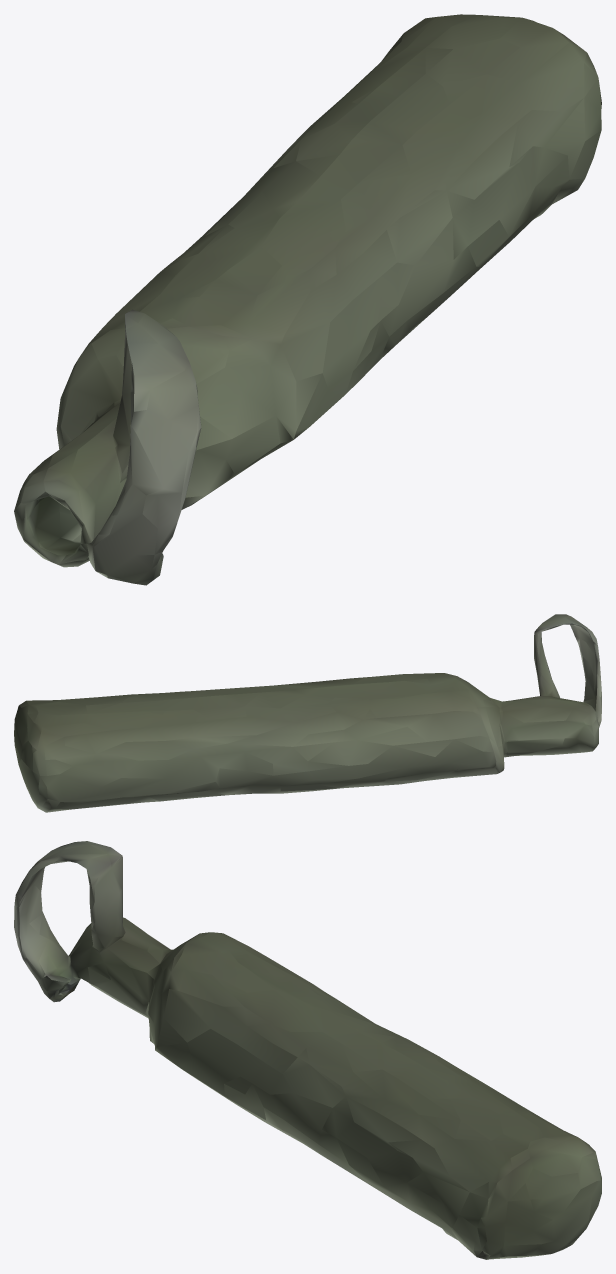
Rendered from 0003_mask_004_green_cylindrical_case.glb.
The picture shows the model from 3 angles, top to bottom: view 1: azimuth 30°, elevation 25°; view 2: azimuth 150°, elevation 25°; view 3: azimuth 270°, elevation 25°; orthographic projection. The views are drawn at different scales.
Parts seen in each view (by area): view 1: mask_004_object; view 2: mask_004_object; view 3: mask_004_object.
Part boxes in pixels (x1,y1,x2,y2): mask_004_object: (14,14,601,585); mask_004_object: (14,614,601,812); mask_004_object: (14,841,601,1259).
Size of the model in its own units: 0.2494 by 0.0764 by 0.217.
